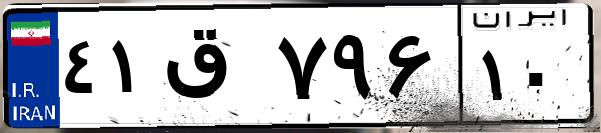0: (525, 38, 570, 115)
1: (475, 38, 525, 113), (110, 28, 158, 98)
4: (57, 26, 110, 100)
6: (385, 28, 445, 110)
7: (270, 28, 330, 110)
9: (330, 28, 385, 110)
ق: (158, 20, 270, 120)
